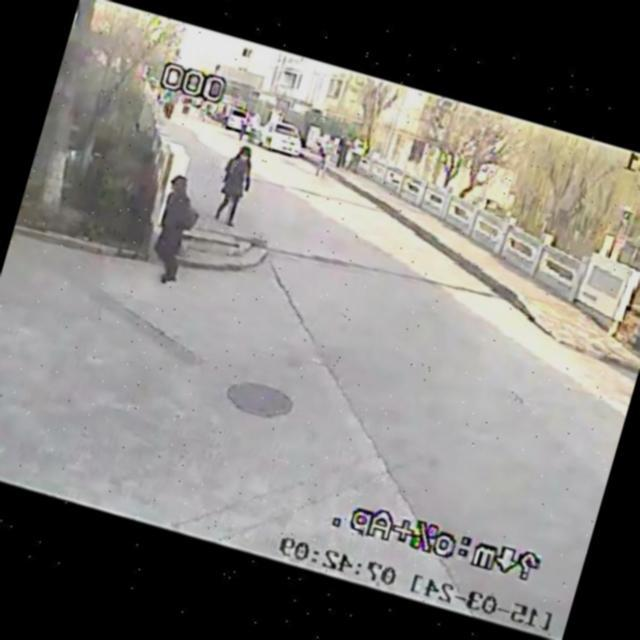person: (134, 167, 216, 290), (202, 129, 272, 234), (307, 128, 343, 187), (150, 78, 186, 126), (344, 123, 374, 178), (215, 96, 238, 132), (233, 110, 257, 140), (176, 88, 198, 120)
